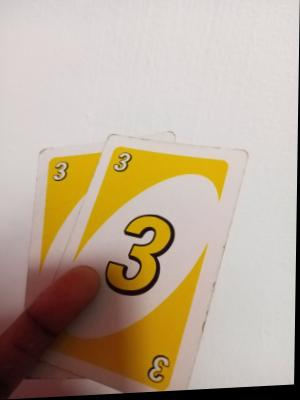num_3: (146, 353, 173, 388), (112, 150, 136, 176), (52, 160, 71, 185)
yellow: (104, 151, 194, 375), (42, 150, 122, 258)
